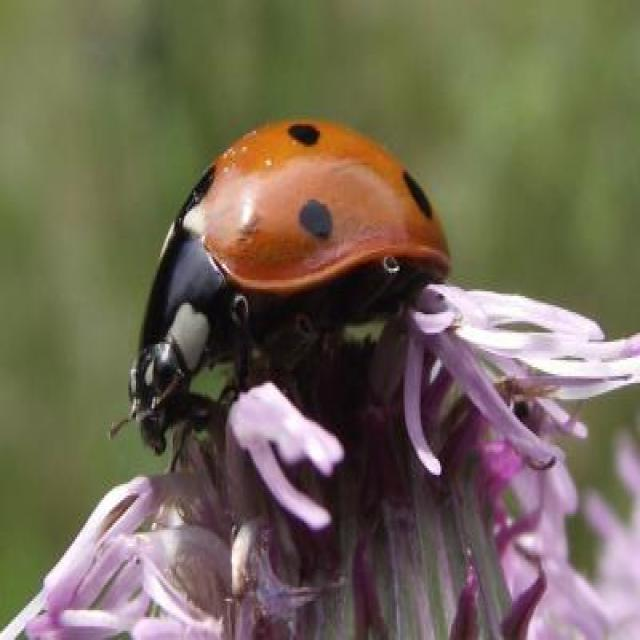antennae: (104, 368, 183, 440)
body: (139, 119, 452, 408)
insect: (100, 118, 453, 444)
legs: (226, 251, 439, 395)
wings: (170, 123, 454, 289)
